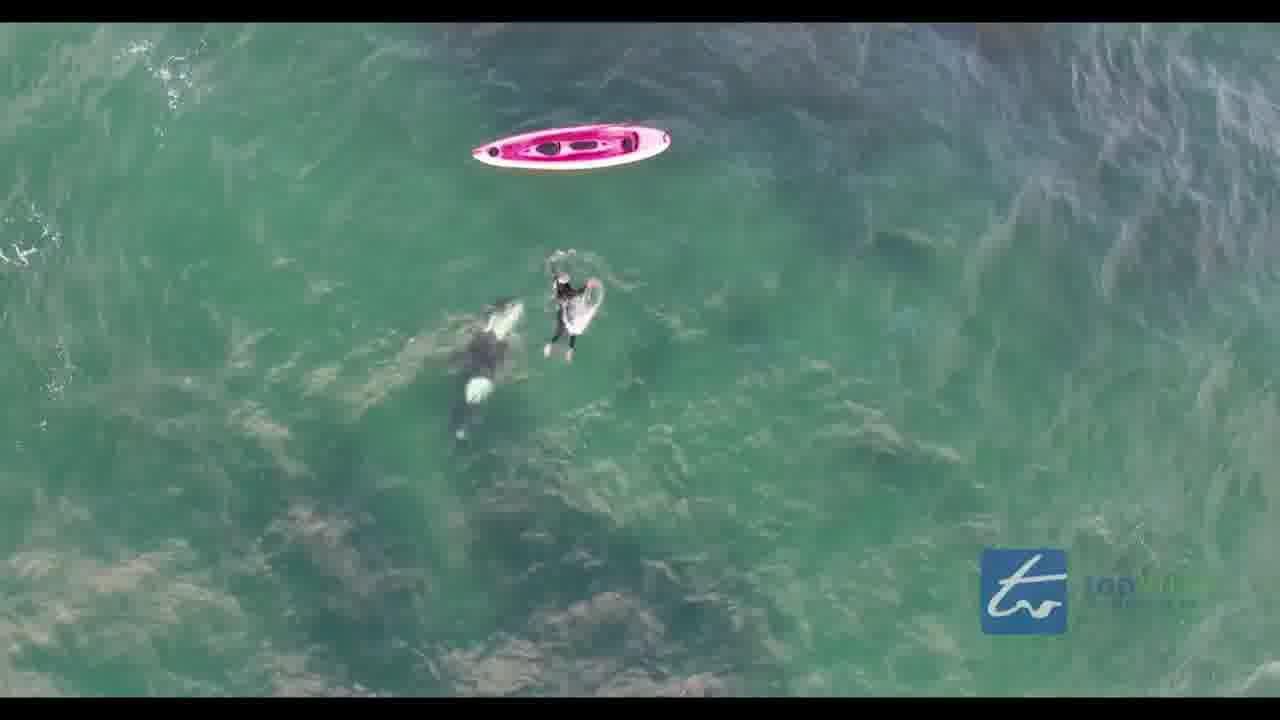swimmer: (542, 253, 606, 362)
